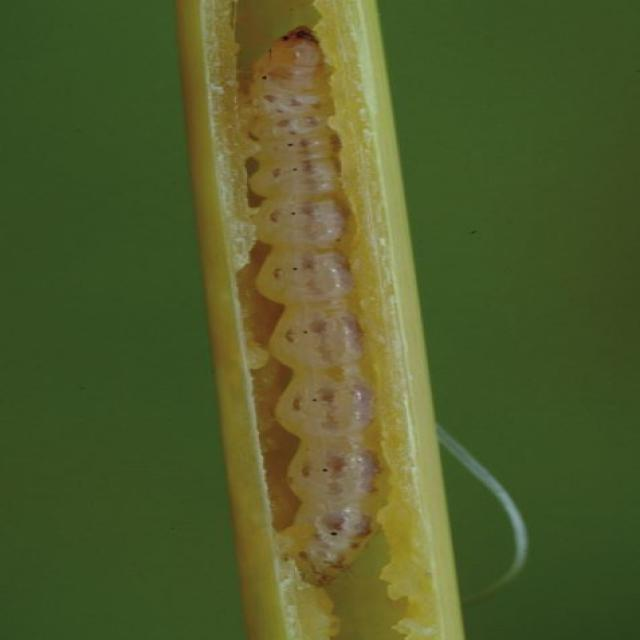ulat pada daun padi: (174, 1, 468, 638)
